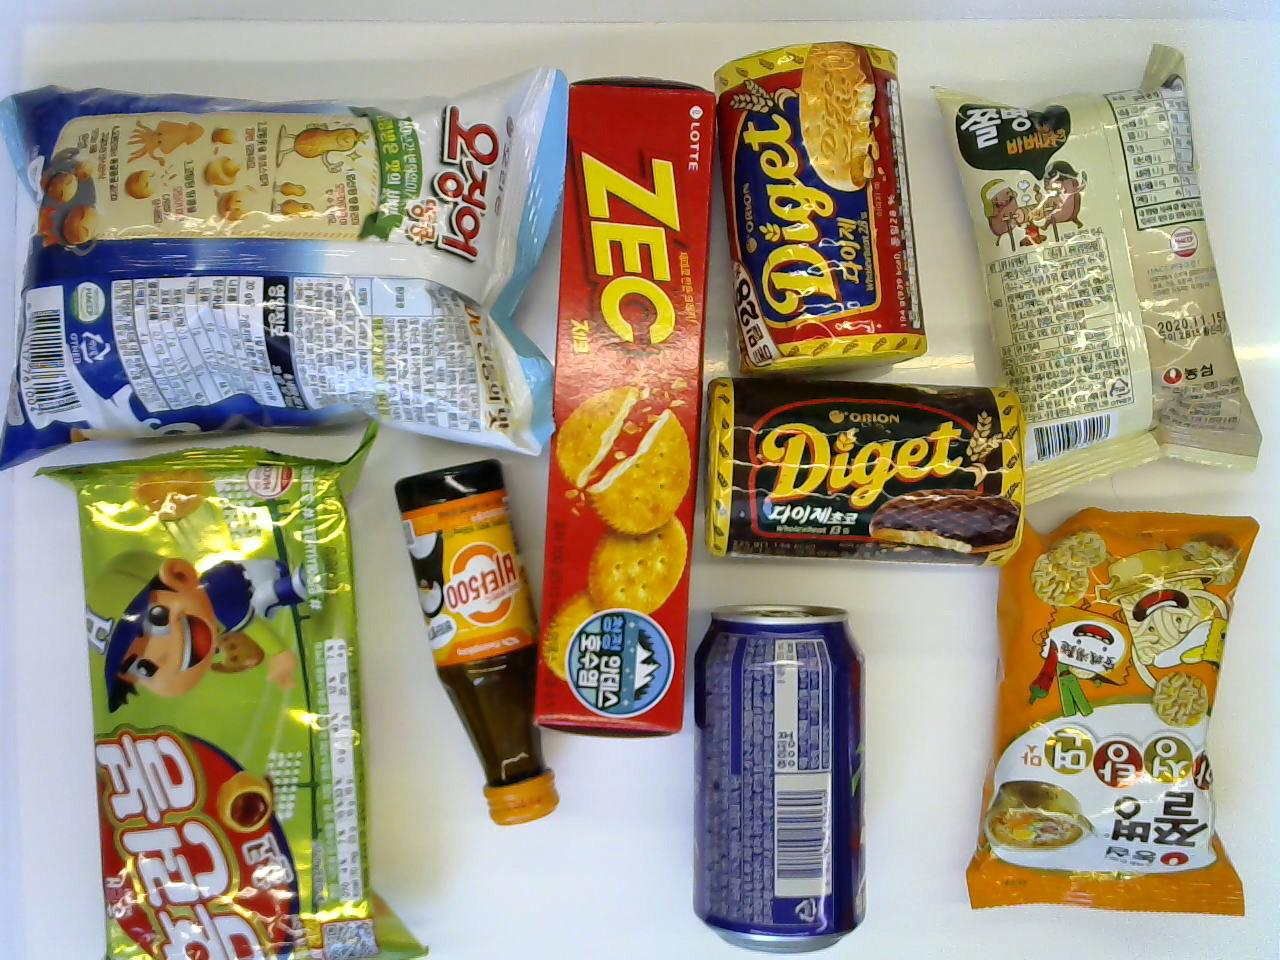diget_choco: (694, 355, 1030, 564)
diget_ori: (705, 34, 929, 376)
homerunball: (30, 412, 427, 960)
jjolbyung_noodle: (963, 495, 1263, 925)
jjolbyung_ori: (927, 35, 1265, 507)
squid_peanut: (0, 59, 574, 464)
vita500: (393, 450, 574, 829)
welchs: (685, 595, 873, 955)
zec: (535, 72, 718, 736)
